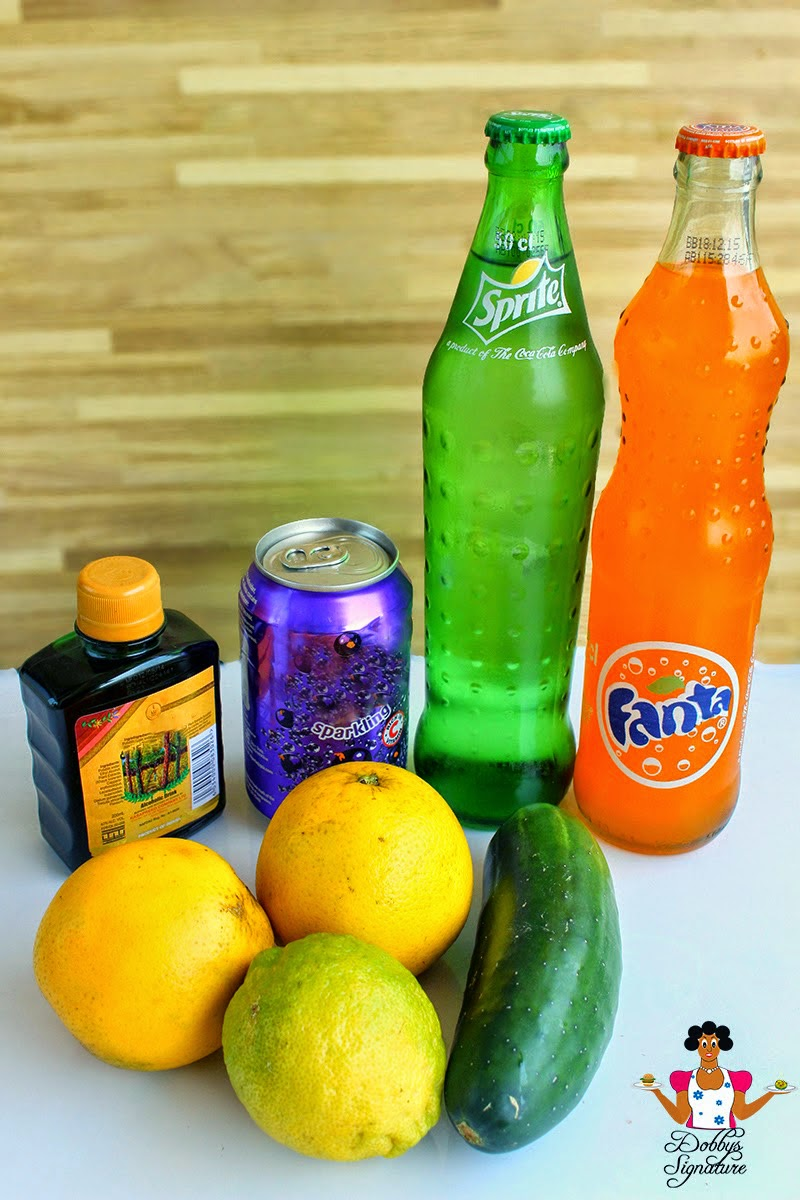fanta: (595, 205, 789, 856)
